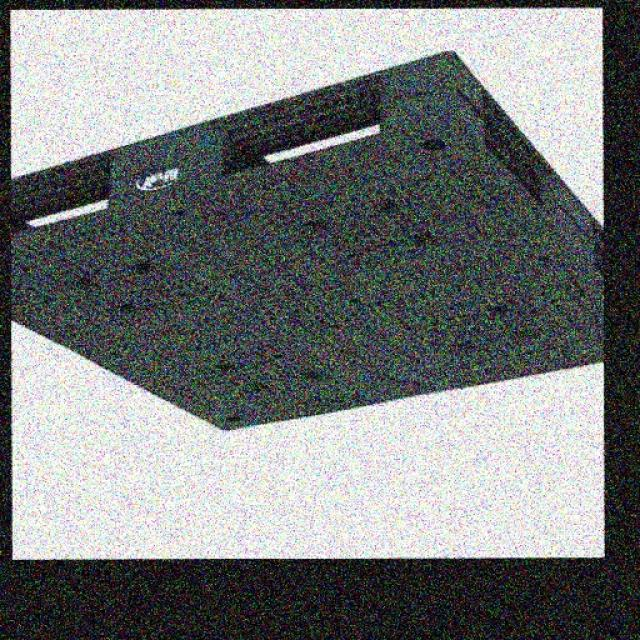non-igps: (4, 44, 613, 437)
